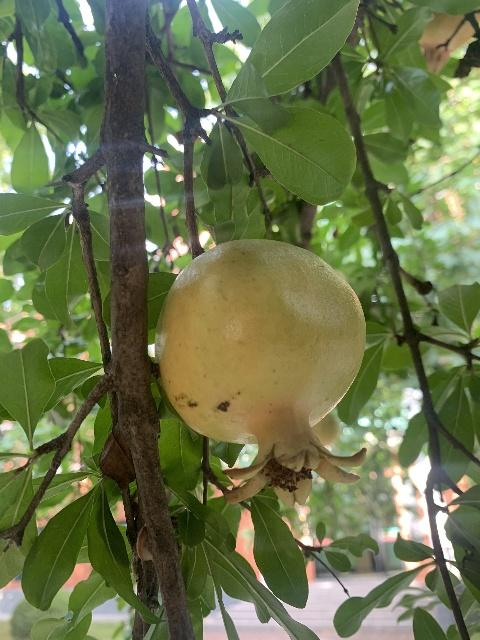mid-growth: (157, 239, 370, 512)
